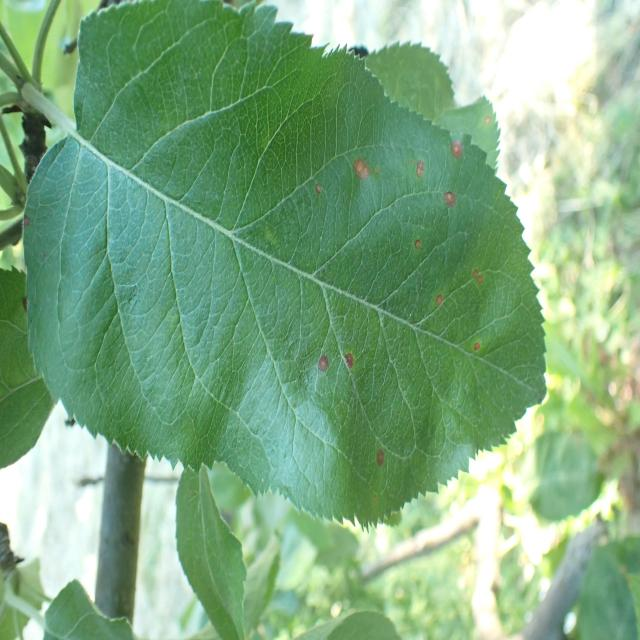Black Rot: (434, 180, 472, 218), (409, 218, 431, 278), (432, 285, 463, 327), (443, 120, 468, 168), (351, 151, 376, 196), (336, 340, 361, 384), (407, 151, 435, 188), (309, 169, 332, 212), (310, 342, 334, 382), (367, 435, 392, 472), (467, 326, 490, 366), (467, 257, 488, 294)
